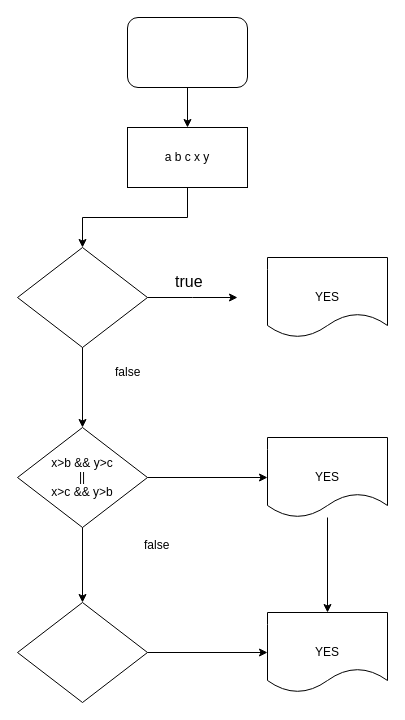
This 405x720 diagram has some shape labels left out. Each missing label, with the box of its shape:
start: (126, 16, 248, 88)
x>a && y>b || x>b && y>a: (16, 246, 148, 348)
x>a && y>c || x>c && y>a: (16, 602, 148, 702)
